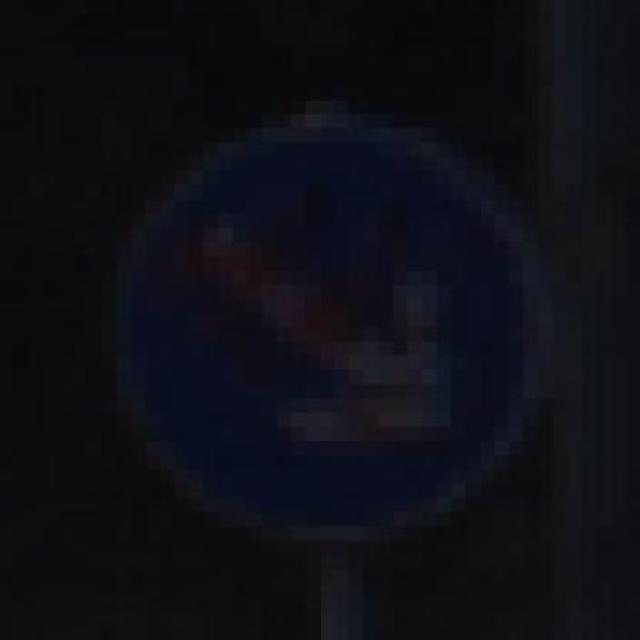Keep-Right: (73, 99, 582, 555)
